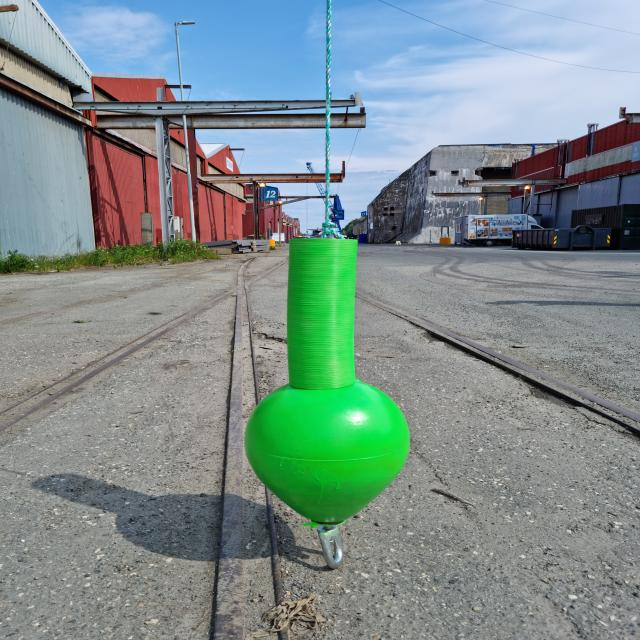green: (243, 240, 412, 525)
